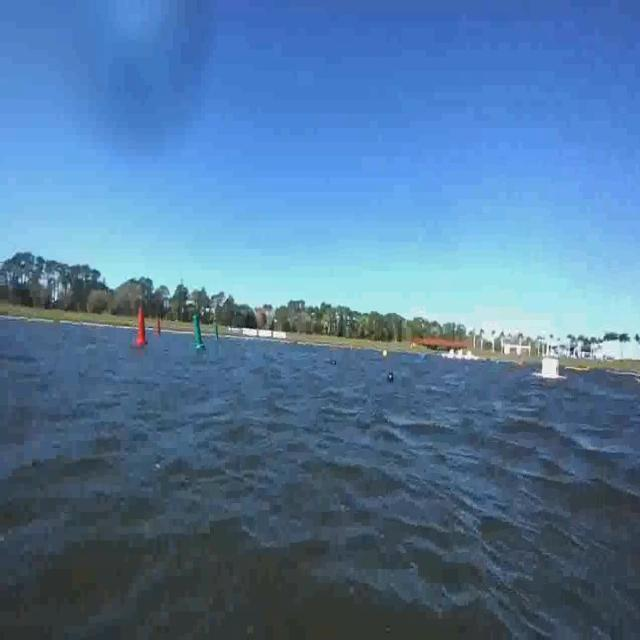black-buoy: (388, 372, 393, 382), (332, 360, 337, 366)
green-column-buoy: (193, 316, 207, 351), (214, 323, 220, 340)
red-column-buoy: (136, 306, 148, 345), (156, 314, 162, 338)
